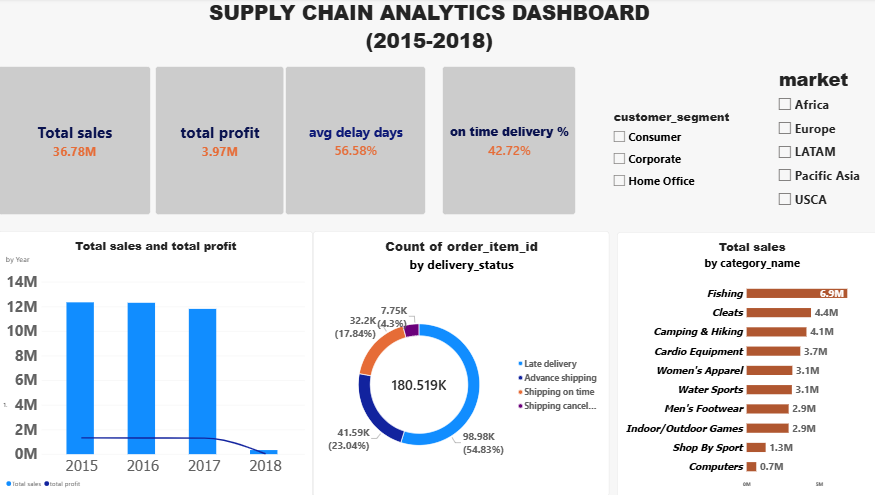

The dashboard page shown, as its layout file describes it:
{"tool":"powerbi","page":{"name":"Page 1","canvas":[1920,1080],"ordinal":0},"visuals":[{"type":"cardVisual","fields":{"Data":["fact_orders.Total sales"]},"box":[0,146.1,330.1,322.5],"z":0},{"type":"cardVisual","fields":{"Data":["fact_orders.total profit"]},"box":[340.2,146.1,279.7,322.5],"z":1000},{"type":"clusteredColumnChart","fields":{"Category":["fact_orders.shipping_mode"],"Y":["fact_orders.on time delivery %"]},"box":[871.8,763.5,280,280],"z":2000},{"type":"donutChart","fields":{"Category":["fact_orders.delivery_status"],"Y":["Count(fact_orders.order_item_id)"]},"box":[680.3,503.9,640,574.5],"z":3000},{"type":"clusteredBarChart","fields":{"Category":["dim_products.category_name"],"Y":["fact_orders.Total sales"]},"box":[1338,506.5,582,574.5],"z":4000},{"type":"lineStackedColumnComboChart","fields":{"Category":["fact_orders.order_date.Variation.Date Hierarchy.Year","fact_orders.order_date.Variation.Date Hierarchy.Quarter","fact_orders.order_date.Variation.Date Hierarchy.Month","fact_orders.order_date.Variation.Date Hierarchy.Day"],"Y":["fact_orders.Total sales"],"Y2":["fact_orders.total profit"]},"box":[0,503.9,680.3,577],"z":5000},{"type":"slicer","fields":{"Values":["fact_orders.market"]},"box":[1678.1,165.8,241.9,337.6],"z":6000},{"type":"slicer","fields":{"Values":["dim_customers.customer_segment"]},"box":[1321.3,239.9,327.6,267.1],"z":7000},{"type":"textbox","box":[10,870,280,210],"z":8000},{"type":"cardVisual","fields":{"Data":["fact_orders.avg delay days"]},"box":[619.8,146.1,304.9,322.5],"z":9000},{"type":"cardVisual","fields":{"Data":["fact_orders.on time delivery %"]},"box":[960,146.1,289.8,322.5],"z":10000},{"type":"textbox","box":[216.7,0,1431.2,146.1],"z":11000}]}

Visuals, with their boxes in screenshot pixels (x1, y1, x2, y2), scaled from the page's 1920x1080 canvas onto the 875x495 screenshot:
cardVisual - fact_orders.Total sales: (left=0, top=67, right=150, bottom=215)
cardVisual - fact_orders.total profit: (left=155, top=67, right=283, bottom=215)
clusteredColumnChart - fact_orders.shipping_mode x fact_orders.on time delivery %: (left=397, top=350, right=525, bottom=478)
donutChart - fact_orders.delivery_status x Count(fact_orders.order_item_id): (left=310, top=231, right=602, bottom=494)
clusteredBarChart - dim_products.category_name x fact_orders.Total sales: (left=610, top=232, right=874, bottom=494)
lineStackedColumnComboChart - fact_orders.order_date.Variation.Date Hierarchy.Year x fact_orders.order_date.Variation.Date Hierarchy.Quarter: (left=0, top=231, right=310, bottom=494)
slicer - fact_orders.market: (left=765, top=76, right=874, bottom=231)
slicer - dim_customers.customer_segment: (left=602, top=110, right=751, bottom=232)
textbox: (left=5, top=399, right=132, bottom=494)
cardVisual - fact_orders.avg delay days: (left=282, top=67, right=421, bottom=215)
cardVisual - fact_orders.on time delivery %: (left=438, top=67, right=570, bottom=215)
textbox: (left=99, top=0, right=751, bottom=67)
